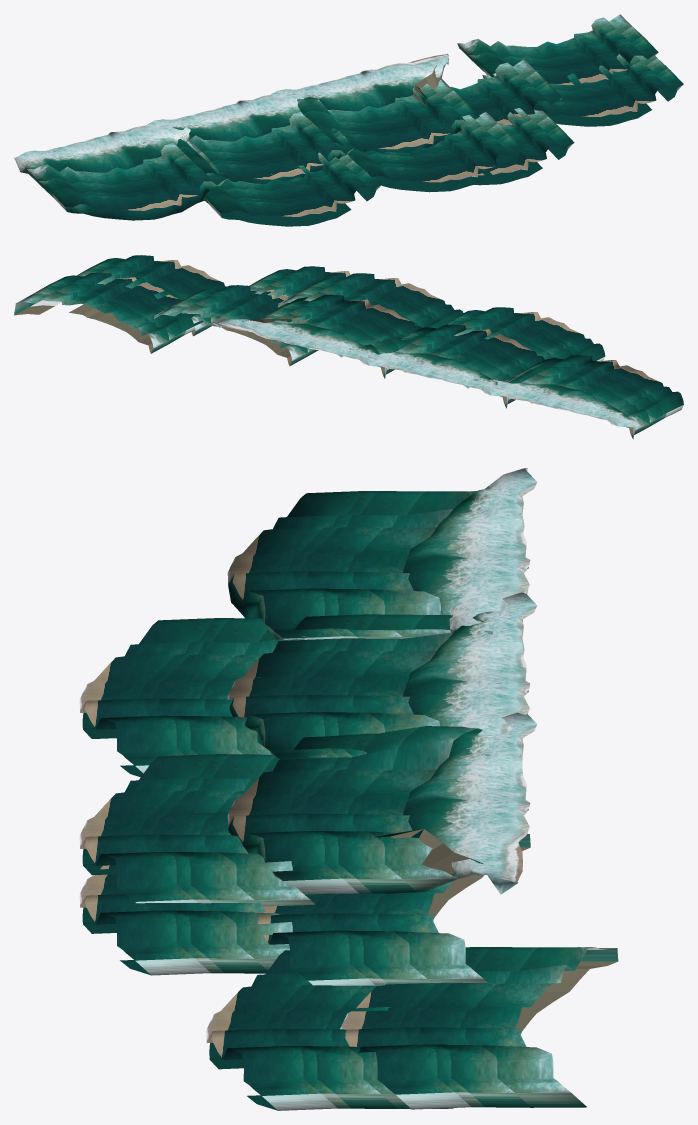
File: Sea_M_Water.fbx
The picture shows the model from 3 angles, top to bottom: view 1: azimuth 30°, elevation 25°; view 2: azimuth 150°, elevation 25°; view 3: azimuth 270°, elevation 25°; orthographic projection. The views are drawn at different scales.
Parts seen in each view (by area): view 1: Sea_M_Water; view 2: Sea_M_Water; view 3: Sea_M_Water.
Part boxes in pixels (x1,y1,x2,y2): Sea_M_Water: (14,14,683,226); Sea_M_Water: (14,255,683,439); Sea_M_Water: (79,468,618,1110).
Size of the model in its own units: 39276 by 2362 by 15063.
Materials: 1 (1 with a texture image).
